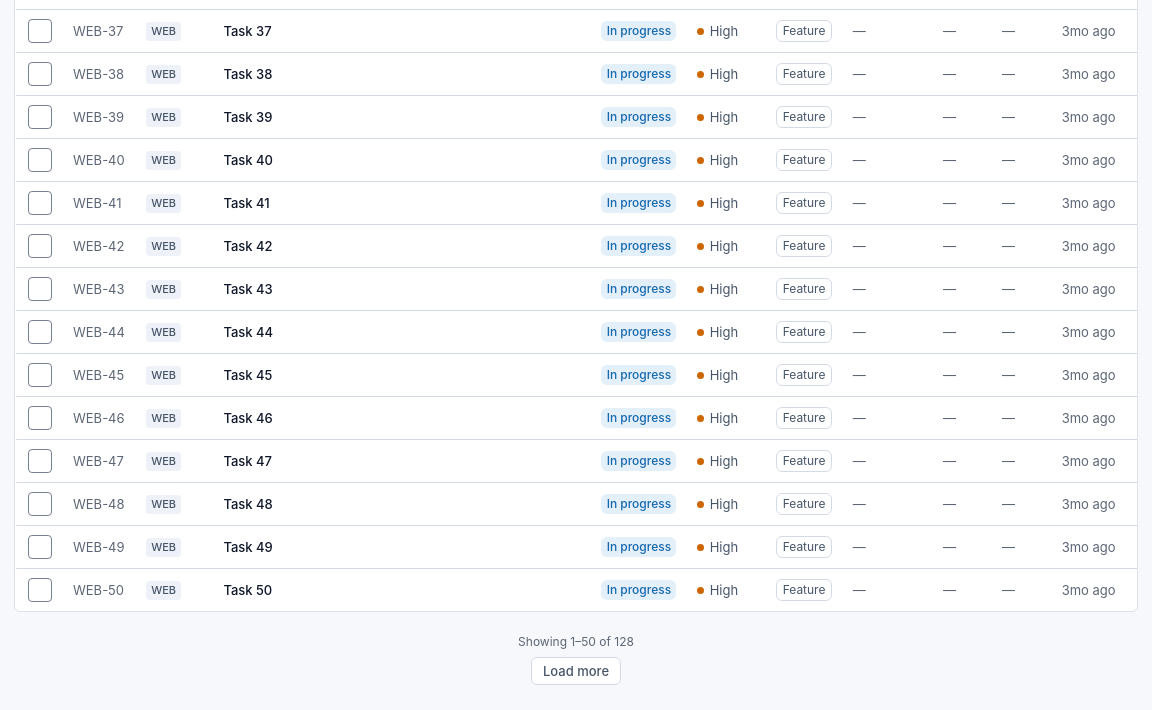
Test: ListView pagination › a failed Load more keeps the count, the rows, and the control
(page scrolled)
Expected: the text "Showing 1–50 of 128" is shown, [518,633,634,650]
Click the button "Load more": (576, 671) [532,657,620,685]
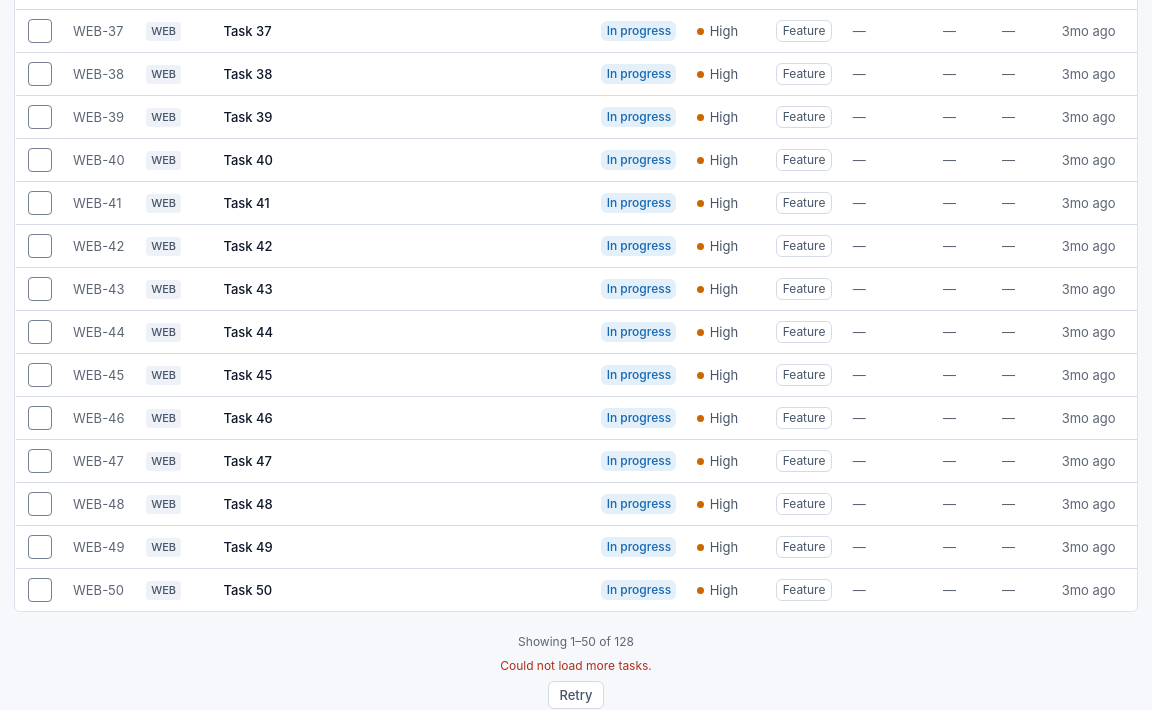
Expected: the text "Showing 1–50 of 128" is shown, [518,633,634,650]
Expected: the message "Could not load more tasks." is shown, [500,657,652,674]
Expected: the button "Retry" is shown, [548,681,604,709]
